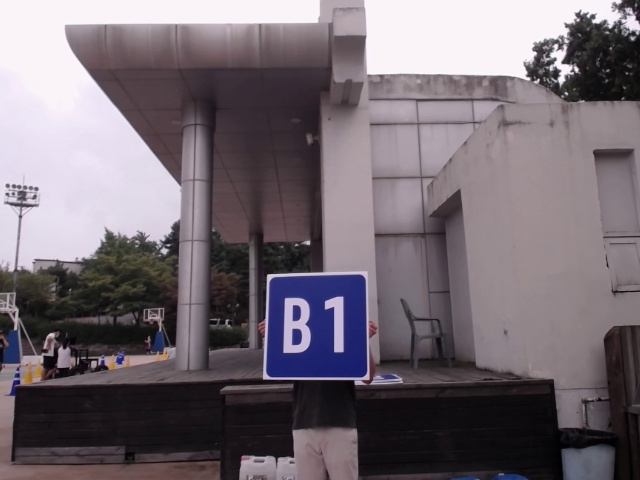delivery_b1: (266, 272, 369, 379)
